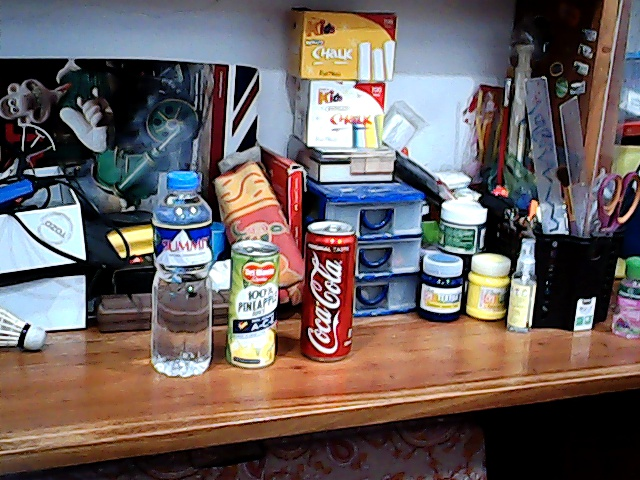Cola: (300, 220, 360, 365)
Pine Juice: (223, 237, 286, 375)
Summit Water: (147, 166, 215, 375)
